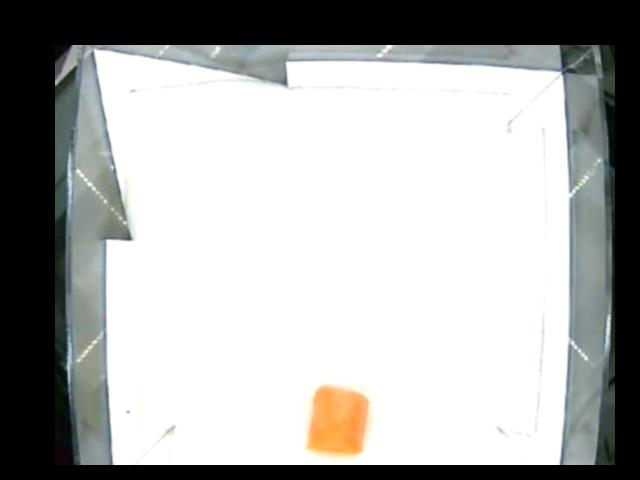Carrot: (306, 384, 370, 453)
